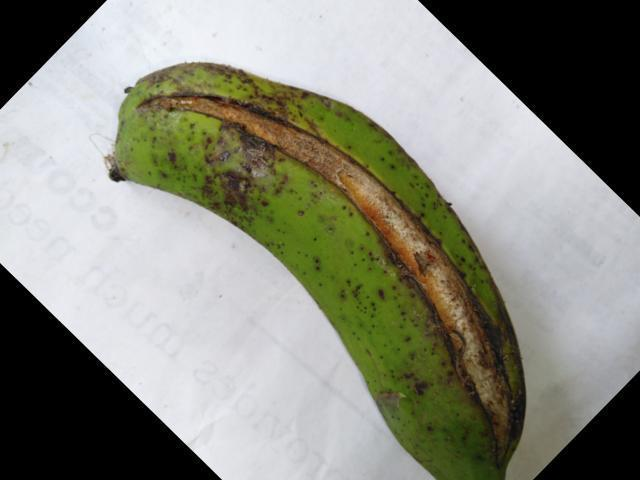rotten: (152, 72, 533, 446)
